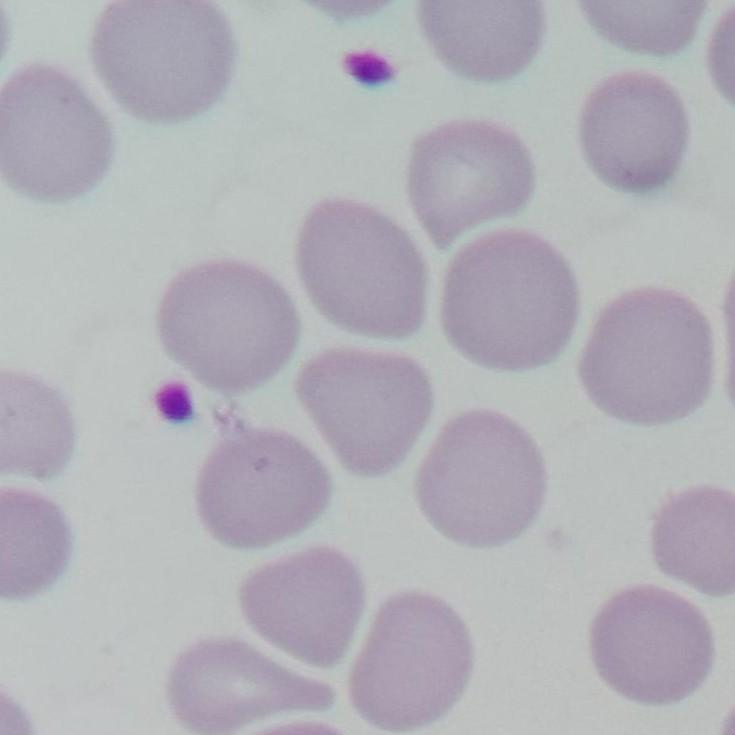Uninfected: (295, 189, 433, 341), (157, 257, 299, 390), (443, 231, 579, 367), (583, 282, 711, 426), (163, 632, 340, 735), (415, 406, 542, 549), (92, 0, 236, 125), (347, 589, 474, 730), (193, 427, 334, 548), (300, 352, 431, 481), (0, 64, 116, 202), (403, 121, 531, 245), (588, 587, 718, 707), (242, 546, 368, 668), (580, 74, 684, 198), (413, 0, 550, 85), (648, 487, 735, 604)
